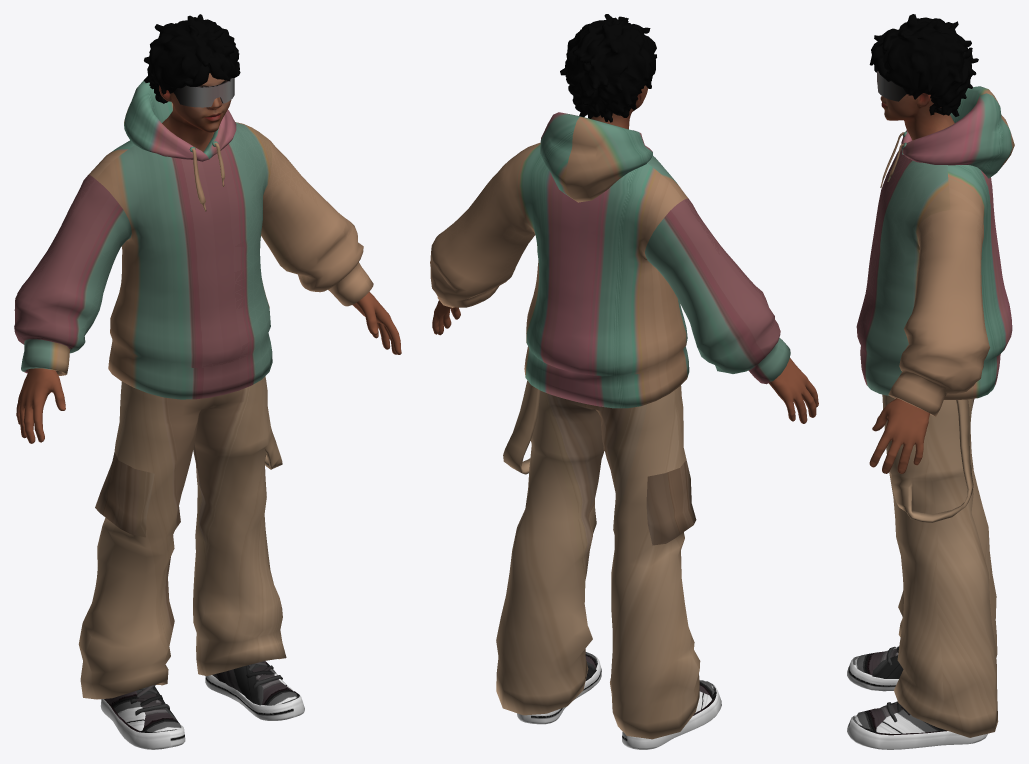
File: Developer.fbx
3 renders of one model, left to right at view 1: azimuth 30°, elevation 25°; view 2: azimuth 150°, elevation 25°; view 3: azimuth 270°, elevation 25°, orthographic.
Parts seen in each view (by area): view 1: Wolf3D_Outfit_Top, Wolf3D_Outfit_Bottom, Wolf3D_Outfit_Footwear, Wolf3D_Hair, Wolf3D_Body, Wolf3D_Head, Wolf3D_Glasses; view 2: Wolf3D_Outfit_Top, Wolf3D_Outfit_Bottom, Wolf3D_Hair, Wolf3D_Outfit_Footwear, Wolf3D_Body; view 3: Wolf3D_Outfit_Top, Wolf3D_Outfit_Bottom, Wolf3D_Hair, Wolf3D_Outfit_Footwear, Wolf3D_Body, Wolf3D_Head, Wolf3D_Glasses.
Boxes of the visible parts, x1,y1,x2,y2 form: Wolf3D_Outfit_Top: (14, 80, 373, 399); Wolf3D_Outfit_Bottom: (78, 376, 286, 699); Wolf3D_Outfit_Footwear: (100, 661, 304, 749); Wolf3D_Hair: (143, 14, 240, 103); Wolf3D_Body: (16, 291, 401, 443); Wolf3D_Head: (159, 73, 231, 151); Wolf3D_Glasses: (174, 78, 234, 107); Wolf3D_Outfit_Top: (430, 112, 790, 408); Wolf3D_Outfit_Bottom: (496, 380, 700, 739); Wolf3D_Hair: (560, 14, 656, 122); Wolf3D_Outfit_Footwear: (517, 652, 721, 749); Wolf3D_Body: (432, 300, 818, 423); Wolf3D_Outfit_Top: (856, 86, 1014, 416); Wolf3D_Outfit_Bottom: (882, 394, 998, 737); Wolf3D_Hair: (869, 14, 978, 116); Wolf3D_Outfit_Footwear: (847, 646, 987, 749); Wolf3D_Body: (869, 398, 929, 473); Wolf3D_Head: (880, 93, 954, 140); Wolf3D_Glasses: (877, 71, 906, 101).
Bounding box in the file's own units: 1.06 × 1.88 × 0.4139.
9 materials, 9 textured.
